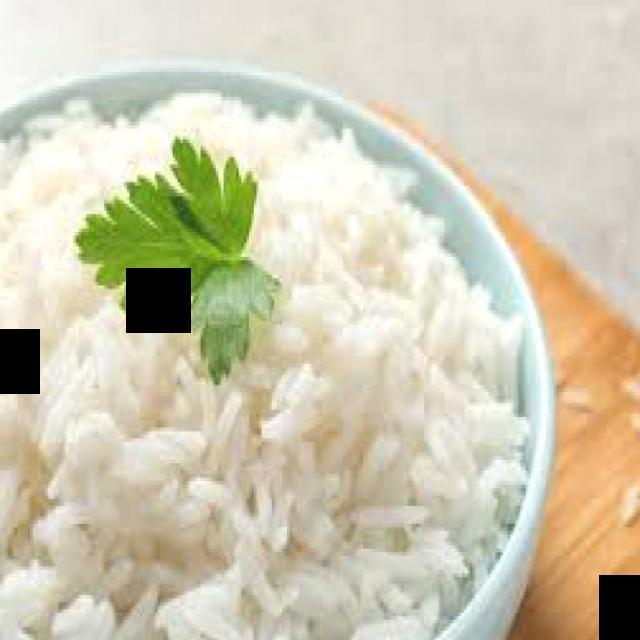Chicken -Chicken Inasal-: (0, 94, 522, 638)
